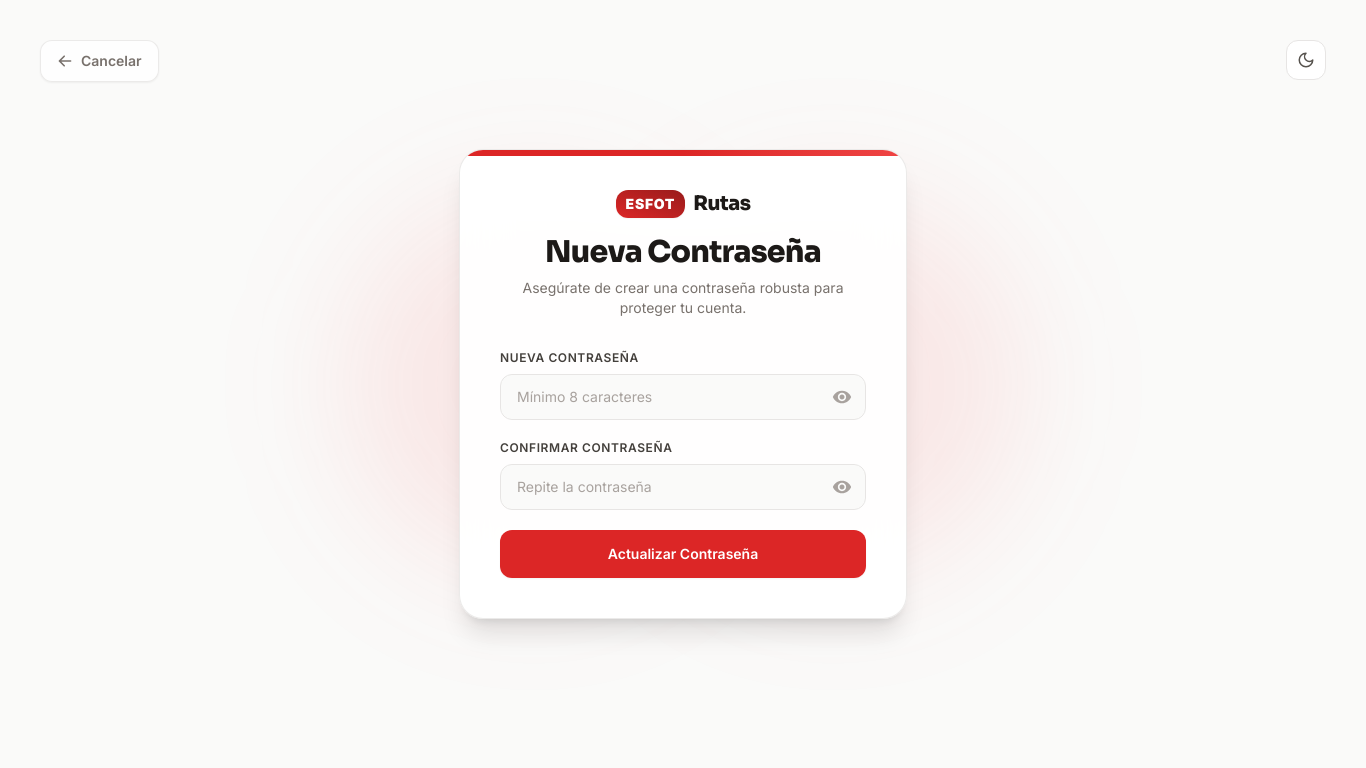
Test: Reset — feedback dentro de la tarjeta › actualiza la contraseña y confirma inline con el mensaje del backend
In the password field with placeholder "Mínimo 8 caracteres": (683, 397) [500,374,866,420], type "NuevaClave123"
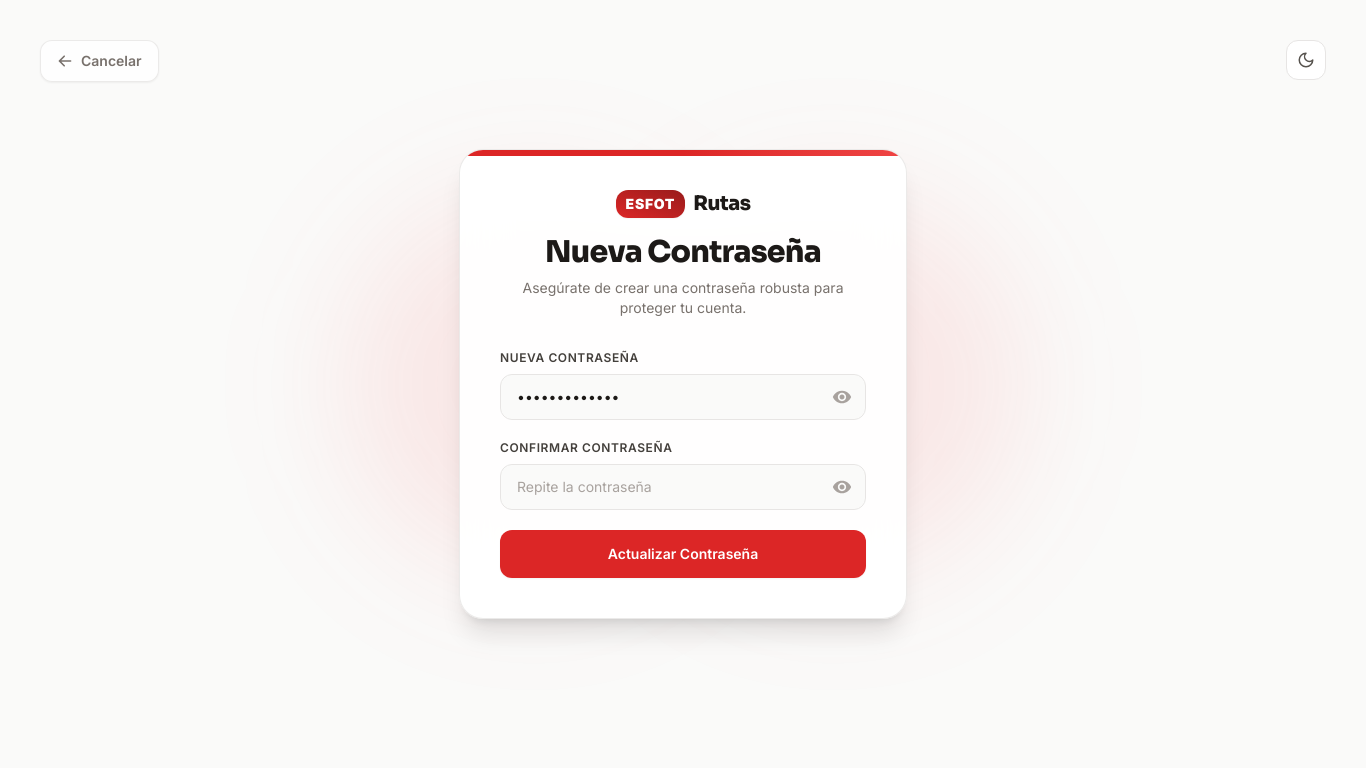
In the password field with placeholder "Repite la contraseña": (683, 487) [500,464,866,510], type "NuevaClave123"
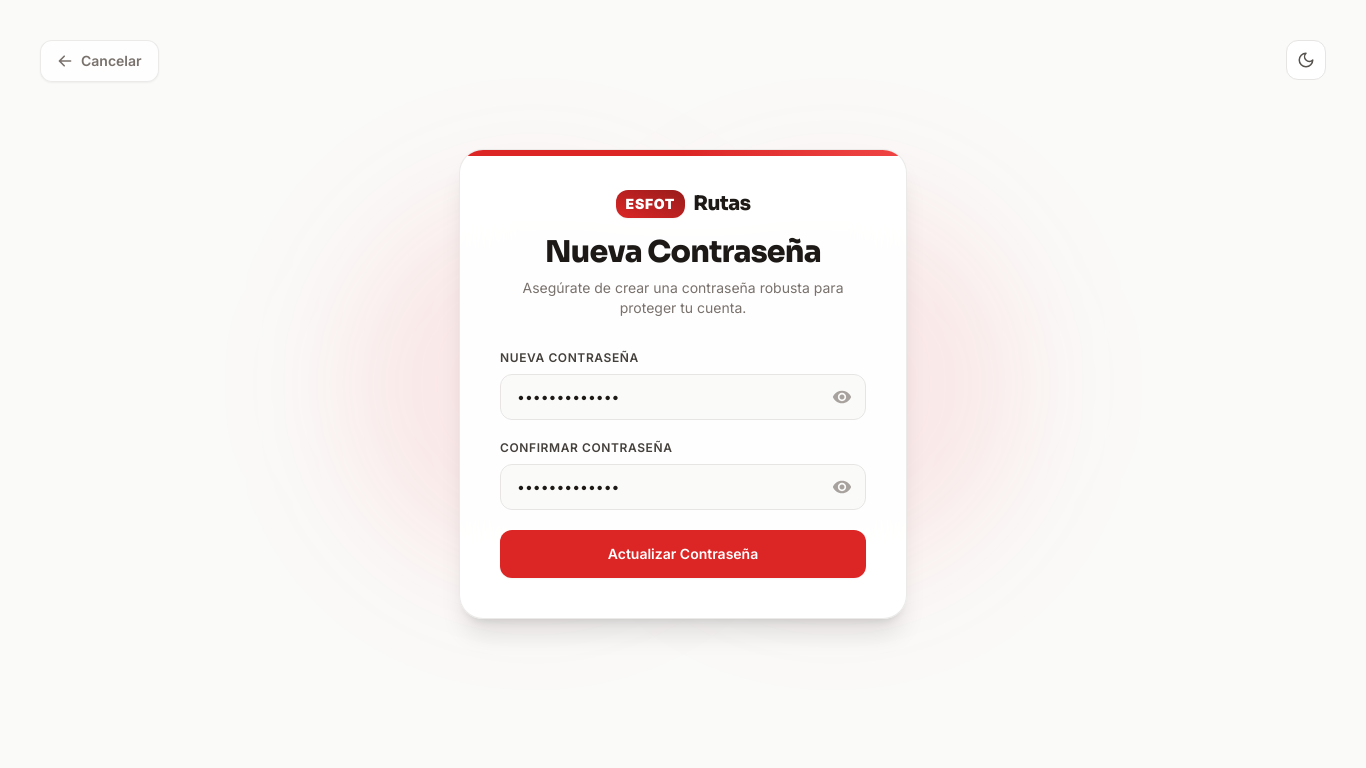
Click the button "Actualizar Contraseña": (683, 554) [500,530,866,578]
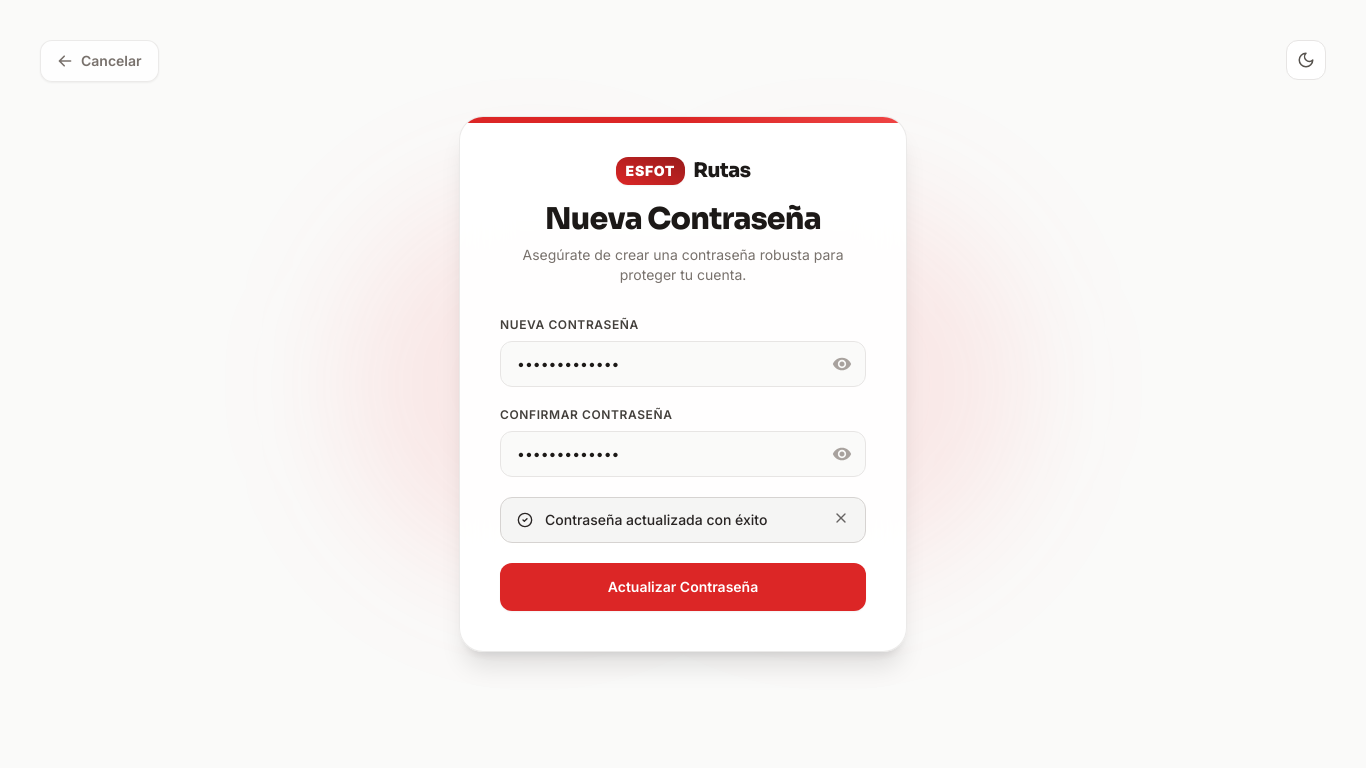
Result: the message reads "Contraseña actualizada con éxito" at [545,511,767,528]
